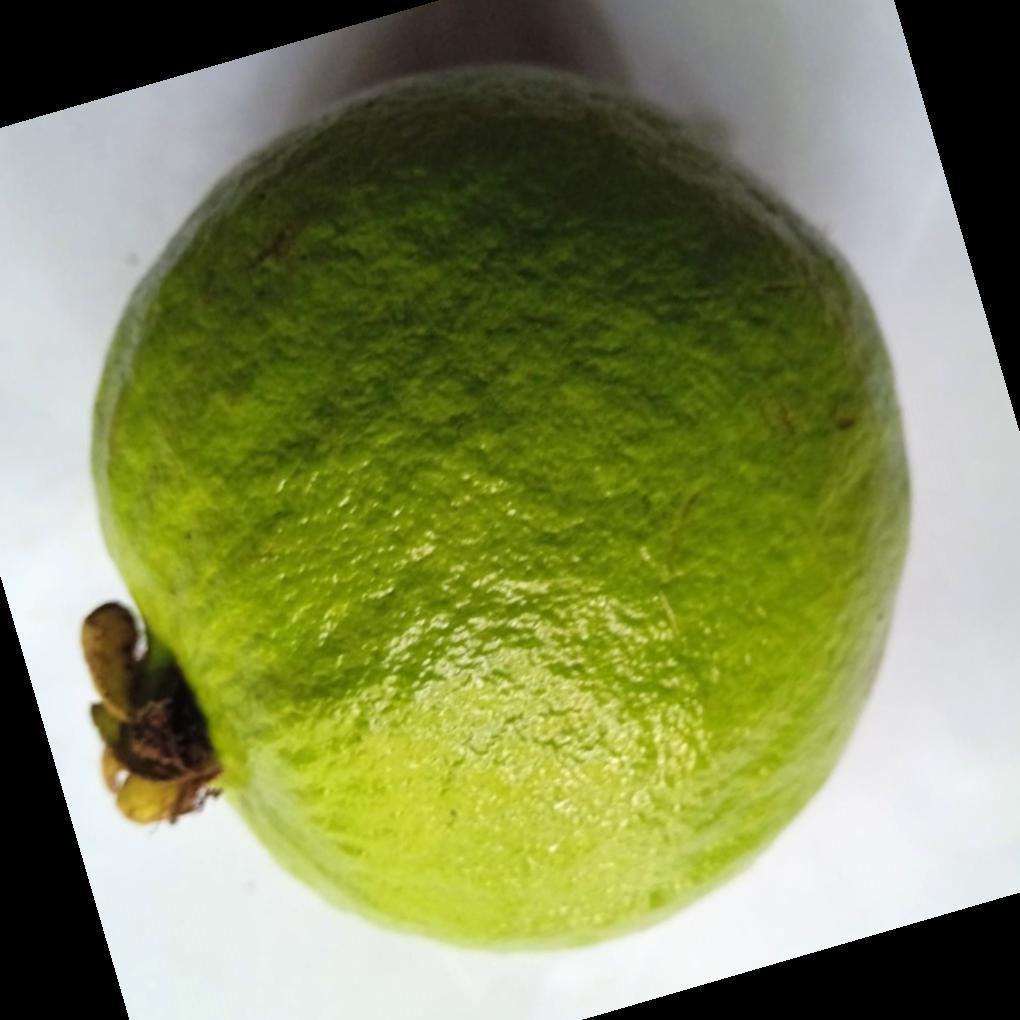FreshGuava: (86, 64, 914, 956)
